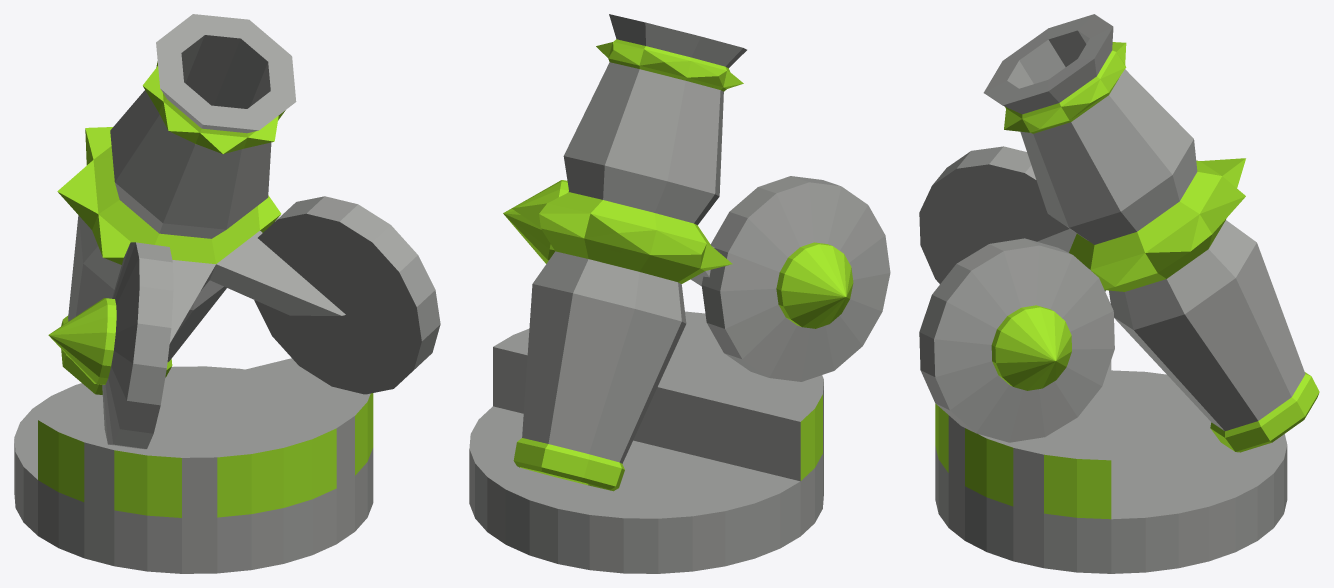
File: Mortar_Tower_Upgraded.fbx
3 views of the same model, side by side, from view 1: azimuth 30°, elevation 25°; view 2: azimuth 150°, elevation 25°; view 3: azimuth 270°, elevation 25° (orthographic). The views are drawn at different scales.
Visible parts, largest first — view 1: Circle; view 2: Circle; view 3: Circle.
Boxes of the visible parts, bbox=[...] form: Circle: bbox=[14, 14, 440, 573]; Circle: bbox=[469, 14, 890, 573]; Circle: bbox=[919, 14, 1319, 573].
Bounding box in the file's own units: 545 × 724 × 555.
Materials: 1 (1 with a texture image).
